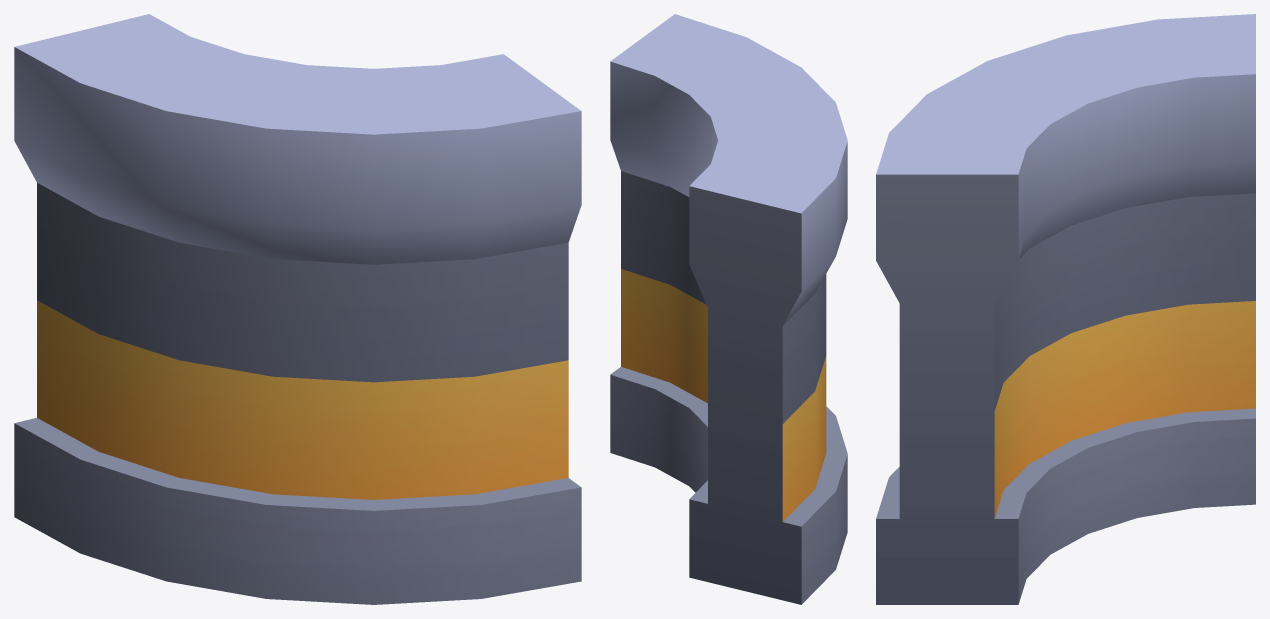
Rendered from kenney-space-station-wall-corner-round-banner.glb.
The picture shows the model from 3 angles, left to right: view 1: azimuth 30°, elevation 25°; view 2: azimuth 150°, elevation 25°; view 3: azimuth 270°, elevation 25°; orthographic projection. The views are drawn at different scales.
Visible parts, largest first — view 1: wall-corner-round-banner; view 2: wall-corner-round-banner; view 3: wall-corner-round-banner.
Part boxes in pixels (box(x1,y1,x2,y2)): wall-corner-round-banner: box(14, 14, 581, 604); wall-corner-round-banner: box(610, 14, 847, 604); wall-corner-round-banner: box(876, 14, 1255, 604).
Size of the model in its own units: 0.8 by 1 by 0.8.
Materials: 1 (1 with a texture image).
